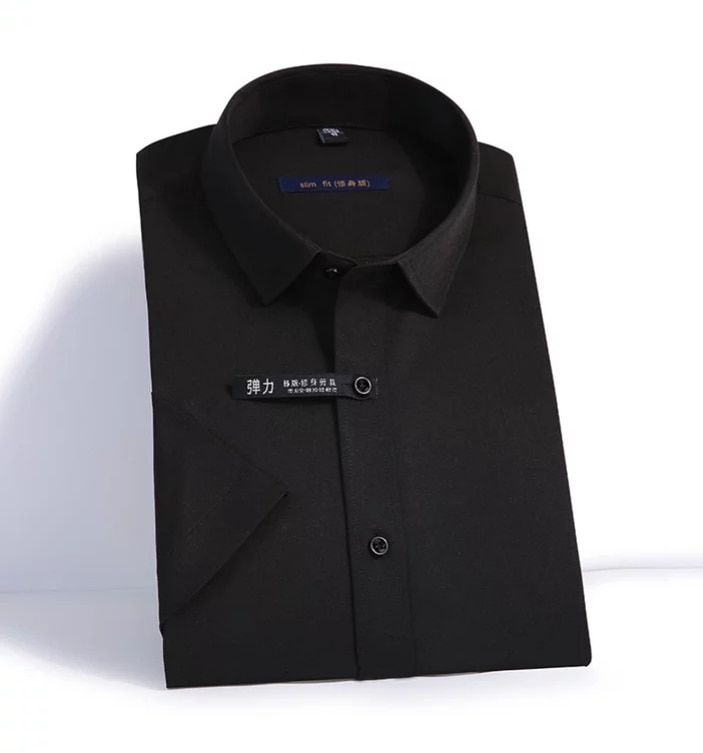shirts: (127, 71, 608, 687)
